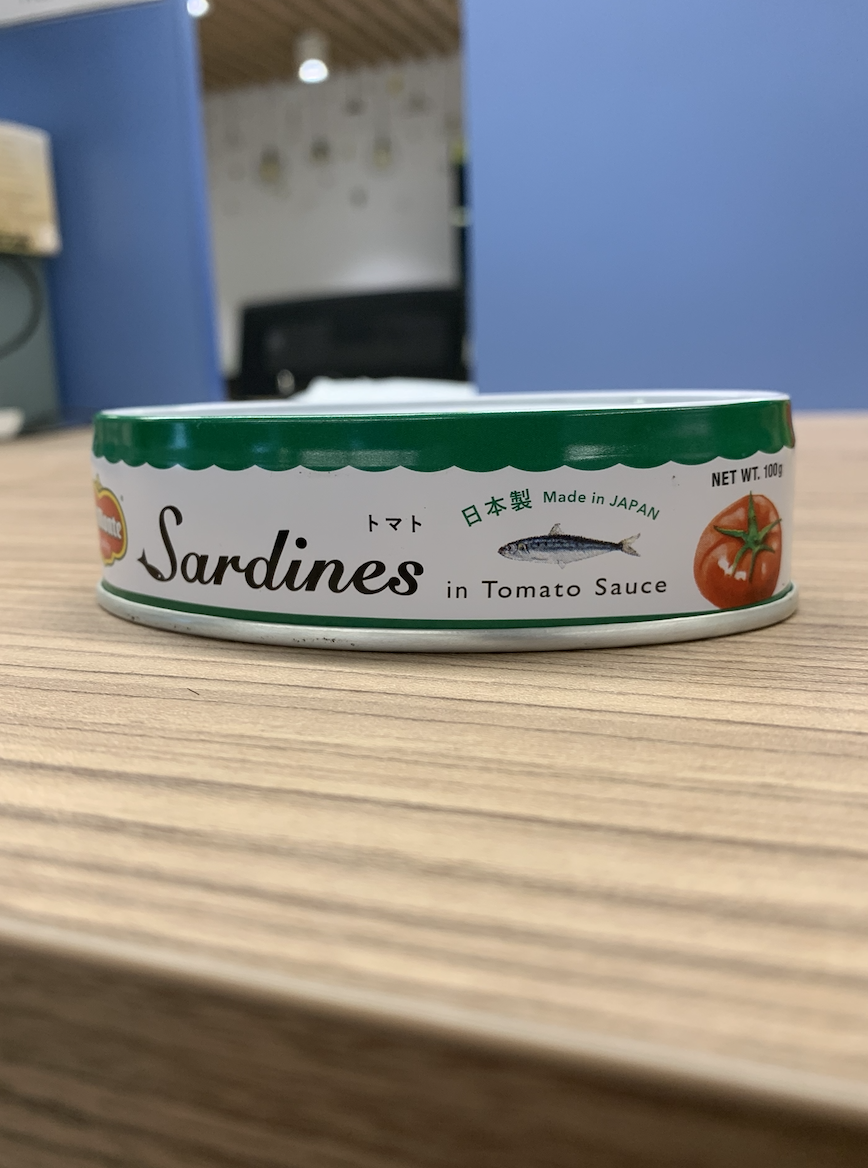sardines_100g-199g: (100, 421, 795, 614)
